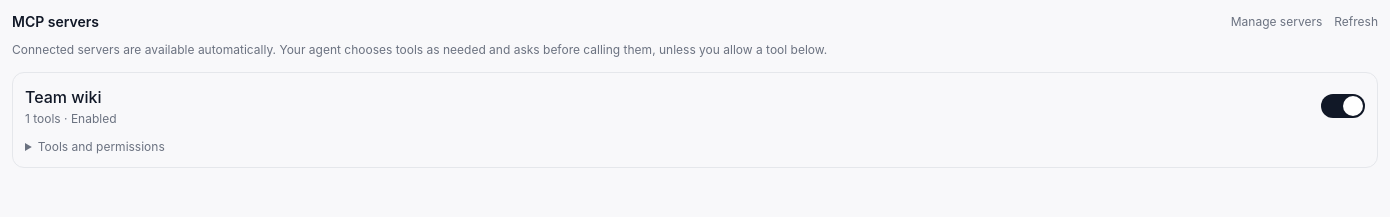
Test: McpSessionPanel › keeps the saved switch state after a failed update
Click the switch named "Use Team wiki" at (1343, 106), box [1321,94,1365,118]
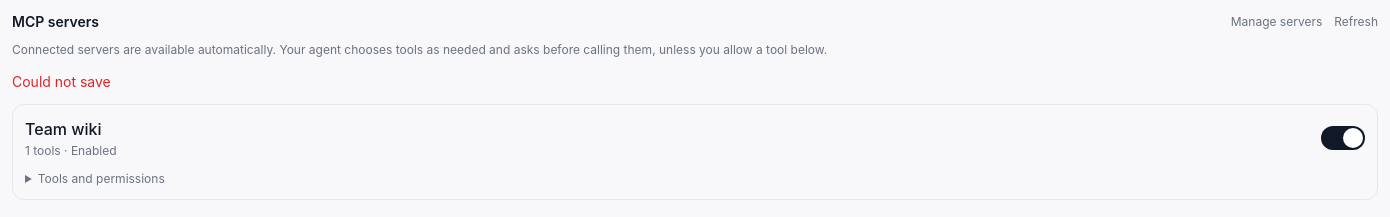
Expected: the switch is checked, [1321,126,1365,150]
Expected: the message reads "Could not save", [12,73,111,90]
